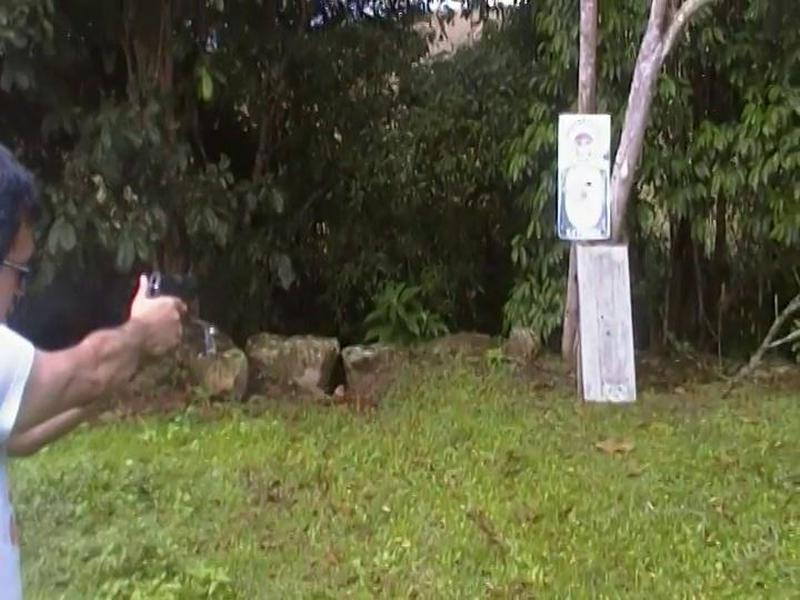Pistola: (134, 247, 226, 326)
